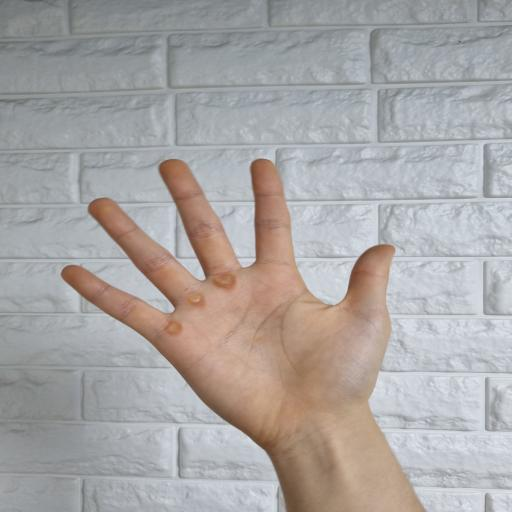Paper: (59, 156, 426, 512)
